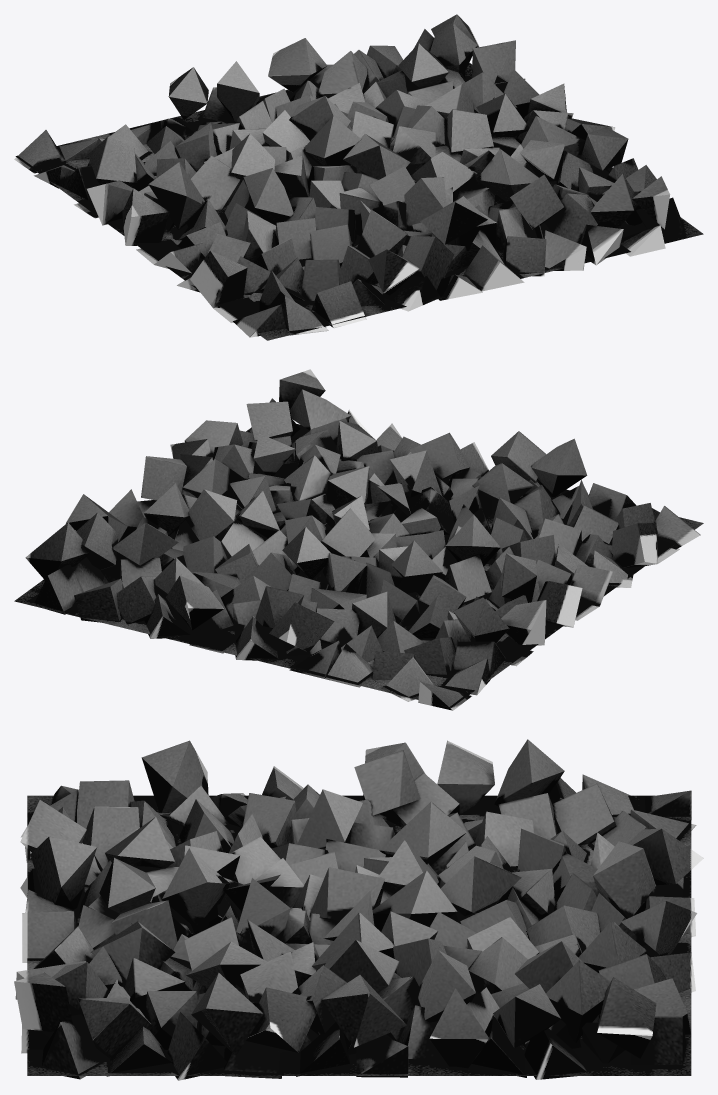
The model's file is foampit_lod2.fbx.
3 renders of one model, top to bottom at view 1: azimuth 30°, elevation 25°; view 2: azimuth 150°, elevation 25°; view 3: azimuth 270°, elevation 25°, orthographic. The views are drawn at different scales.
Parts seen in each view (by area): view 1: Cube.001; view 2: Cube.001; view 3: Cube.001.
Part boxes in pixels (x1,y1,x2,y2): Cube.001: [14, 14, 703, 340]; Cube.001: [14, 369, 703, 710]; Cube.001: [14, 739, 703, 1080].
Size of the model in its own units: 132 by 21.19 by 133.
2 materials, 2 textured.
